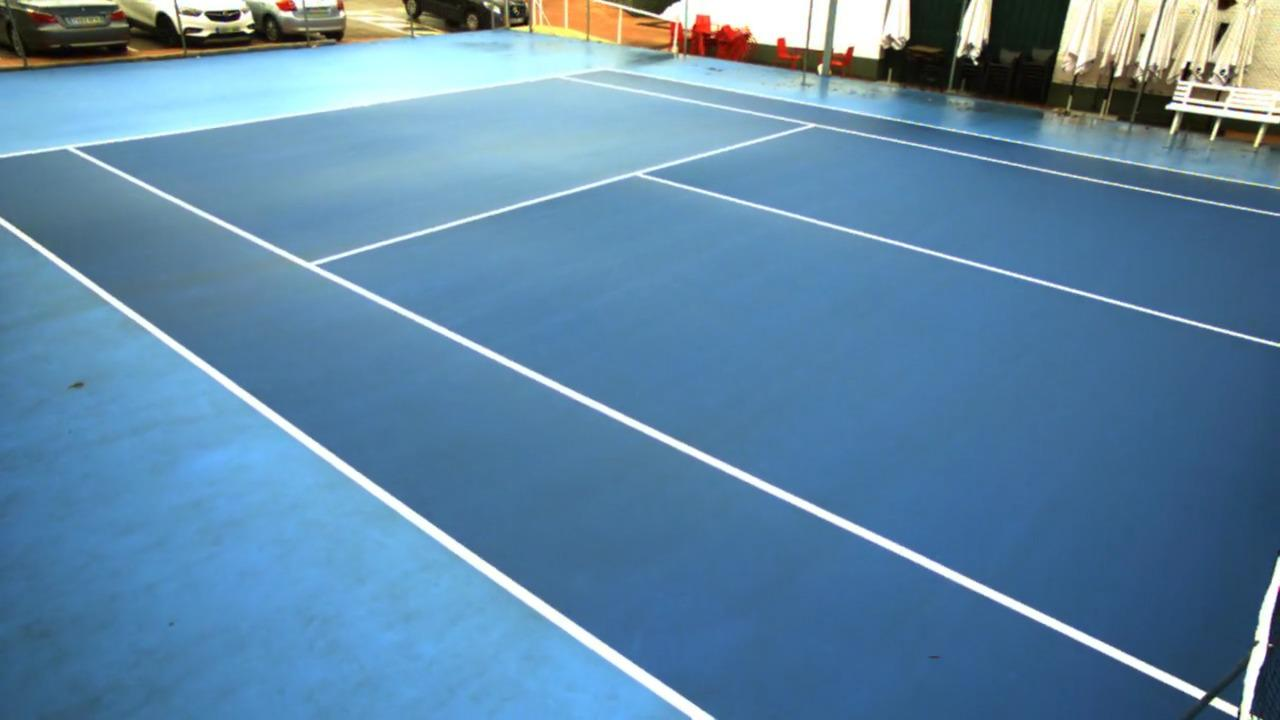cancha_tenis: (66, 72, 1280, 720)
point_f1: (54, 136, 85, 160)
point_f2: (543, 67, 579, 92)
point_i1: (292, 250, 335, 277)
point_i2: (794, 112, 826, 137)
point_ic1: (623, 162, 658, 187)
